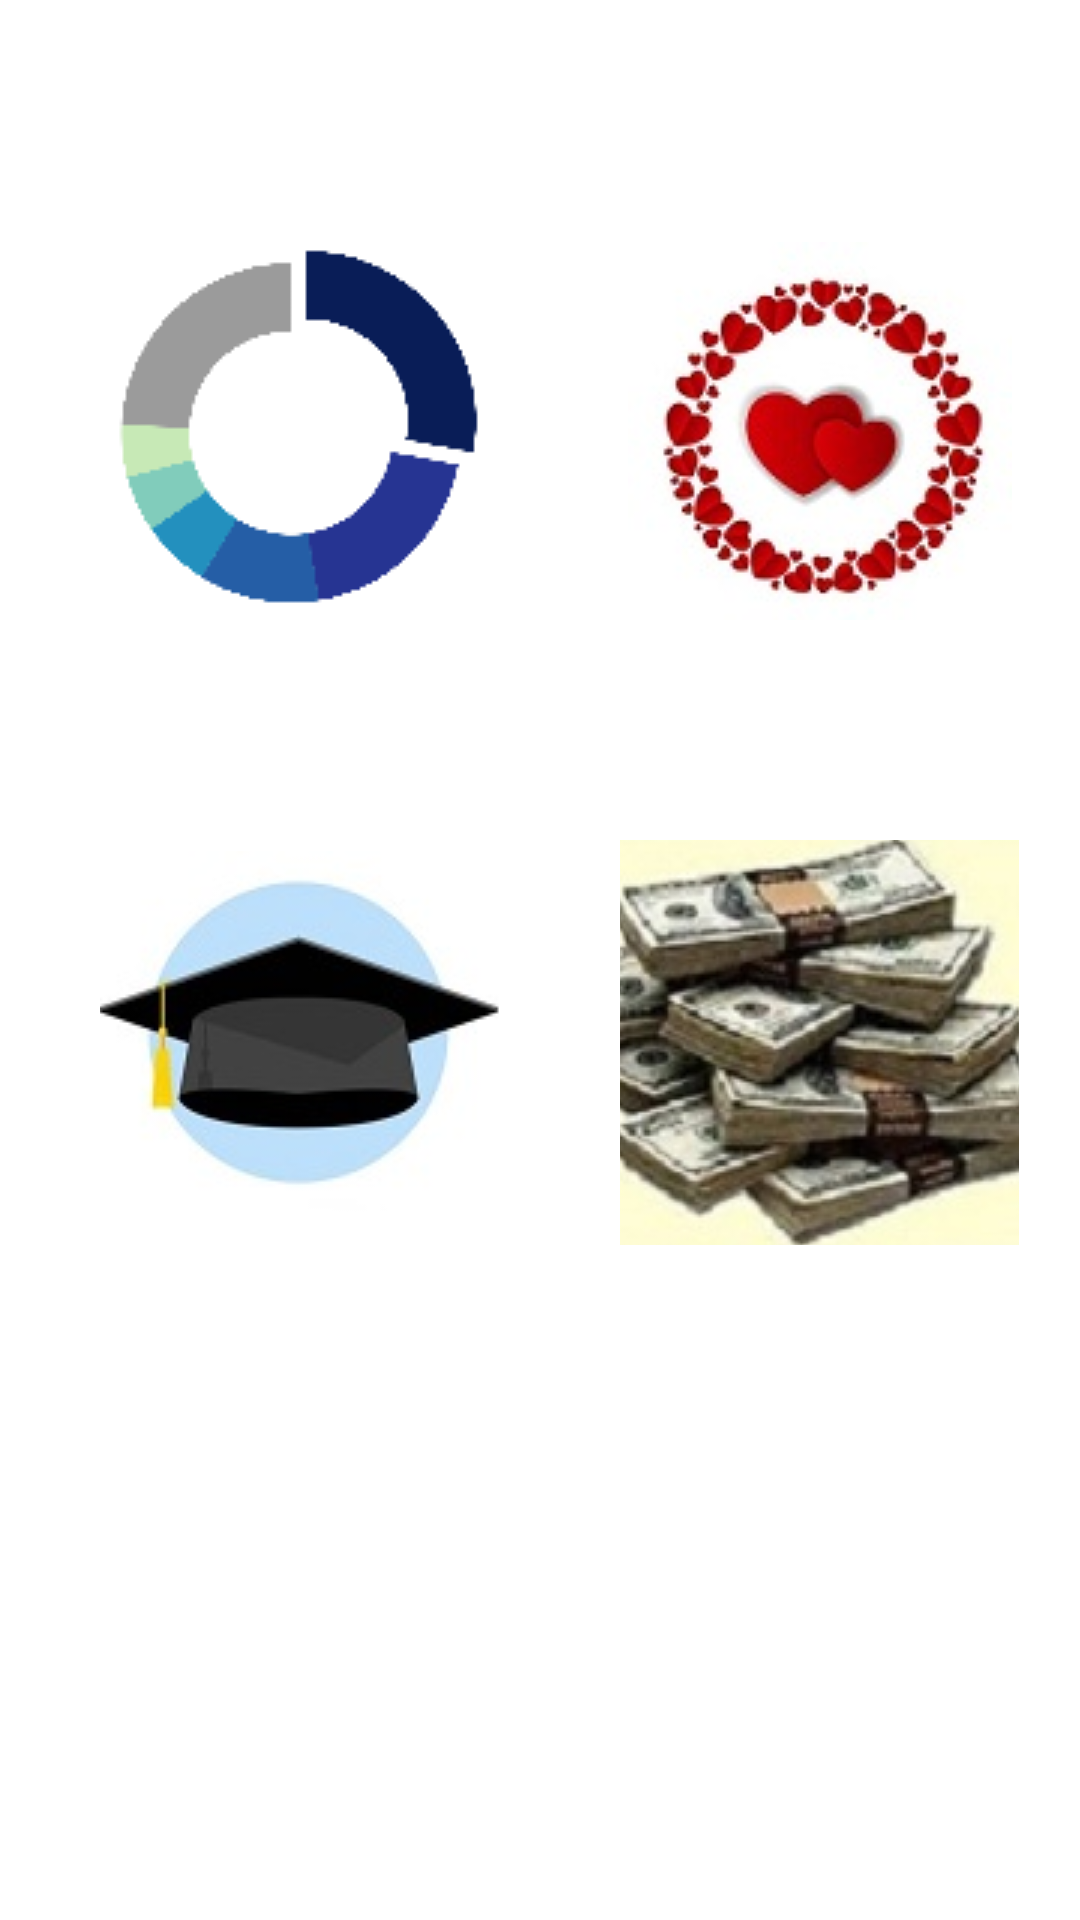

Icon click points for this 1080 x 1920 phone screenshot, format (x=x, y=y):
love: (x=823, y=435)
total: (x=299, y=426)
